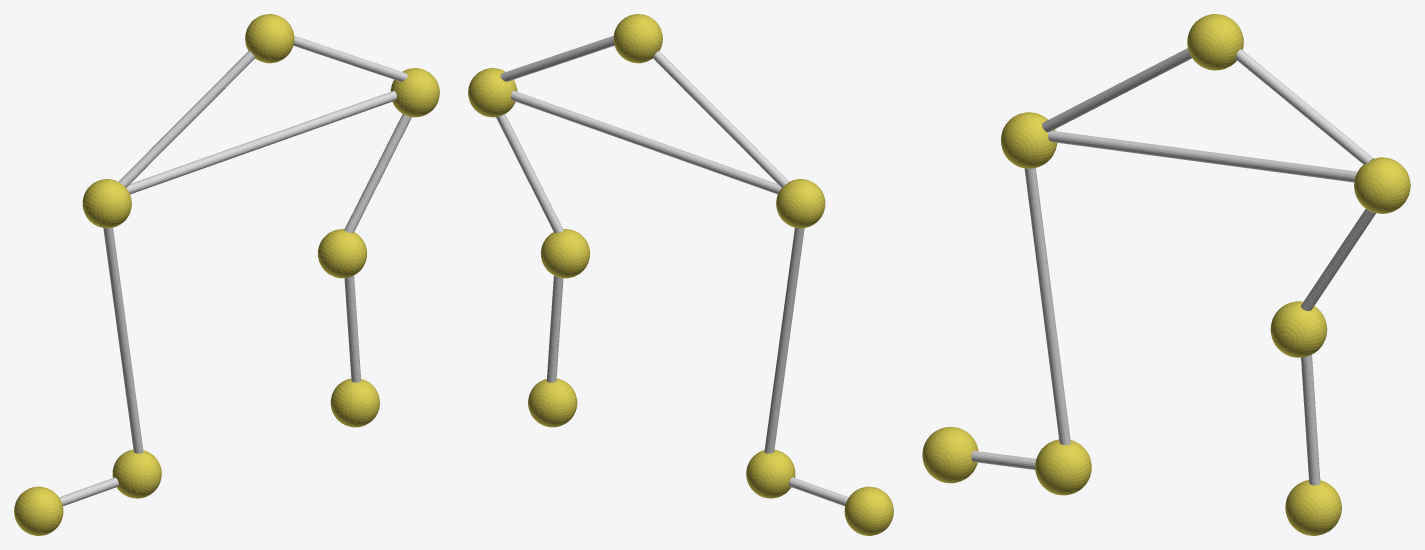
File: libra.glb
3 views of the same model, side by side, from view 1: azimuth 30°, elevation 25°; view 2: azimuth 150°, elevation 25°; view 3: azimuth 330°, elevation 25° (orthographic). The views are drawn at different scales.
Visible parts, largest first — view 1: Mesh_Mesh_head_geo.001_lambert2SG.001; view 2: Mesh_Mesh_head_geo.001_lambert2SG.001; view 3: Mesh_Mesh_head_geo.001_lambert2SG.001.
Part boxes in pixels (x1,y1,x2,y2): Mesh_Mesh_head_geo.001_lambert2SG.001: (14,14,439,535); Mesh_Mesh_head_geo.001_lambert2SG.001: (468,14,893,535); Mesh_Mesh_head_geo.001_lambert2SG.001: (922,14,1410,535).
Bounding box in the file's own units: 98 × 103 × 10.
